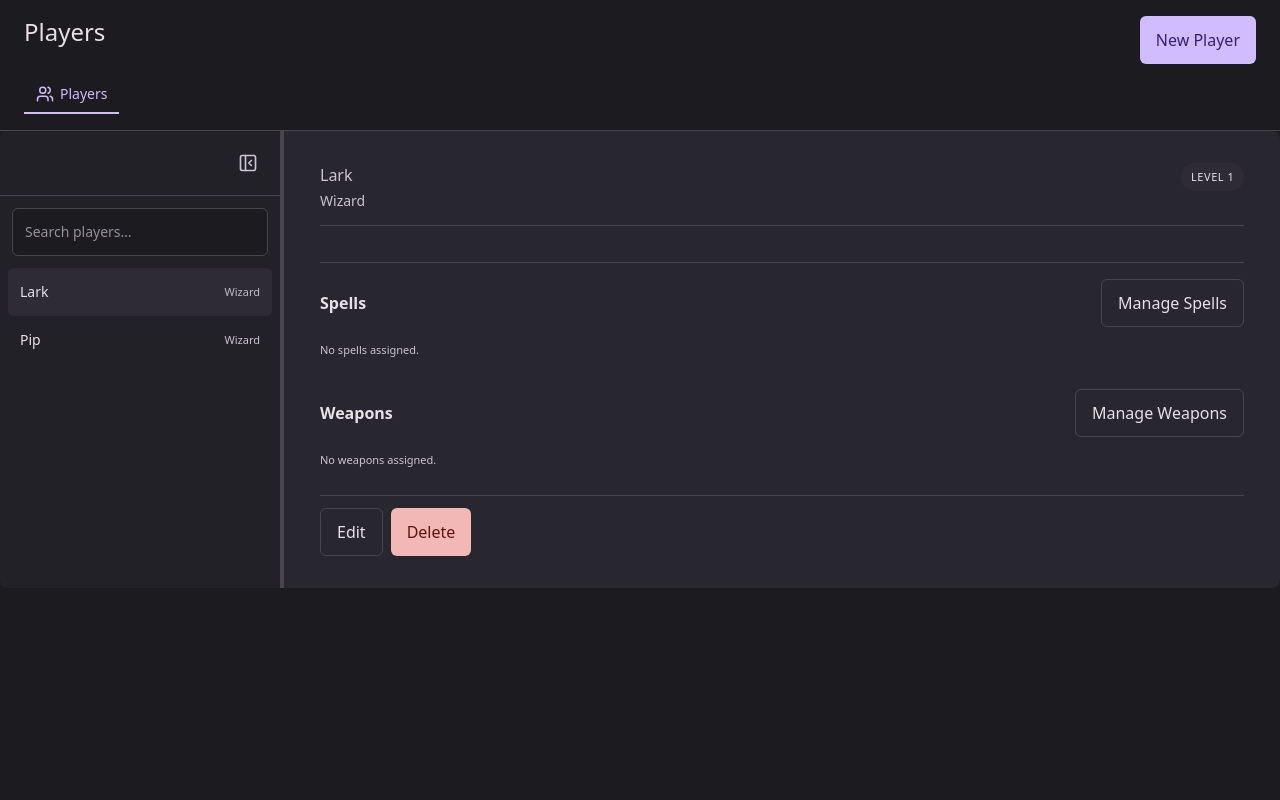
PlayerBrowserPage › selecting a player shows their detail card
The width and height of the screenshot is (1280, 800).
Click the text "Pip".
click(30, 340)  # box x1=20 y1=330 x2=41 y2=350
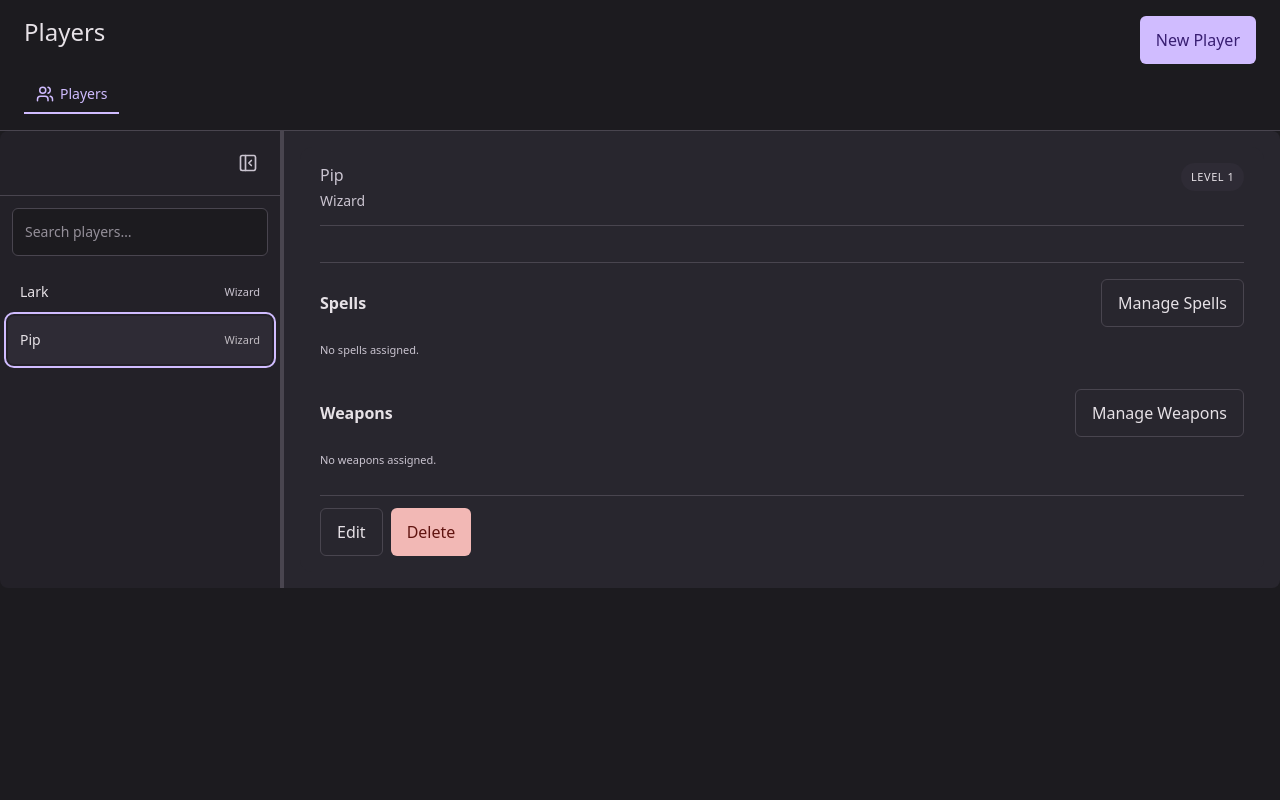
Now the heading "Pip" is shown, box x1=320 y1=164 x2=344 y2=186
